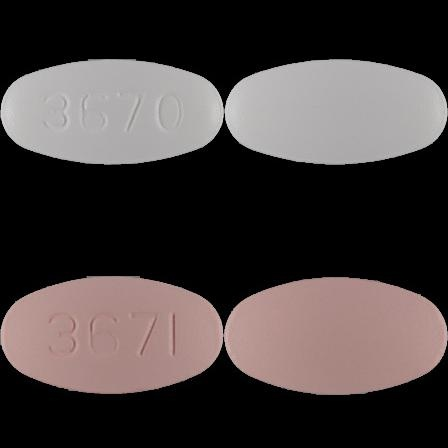0591-3670: (0, 0, 224, 224)
